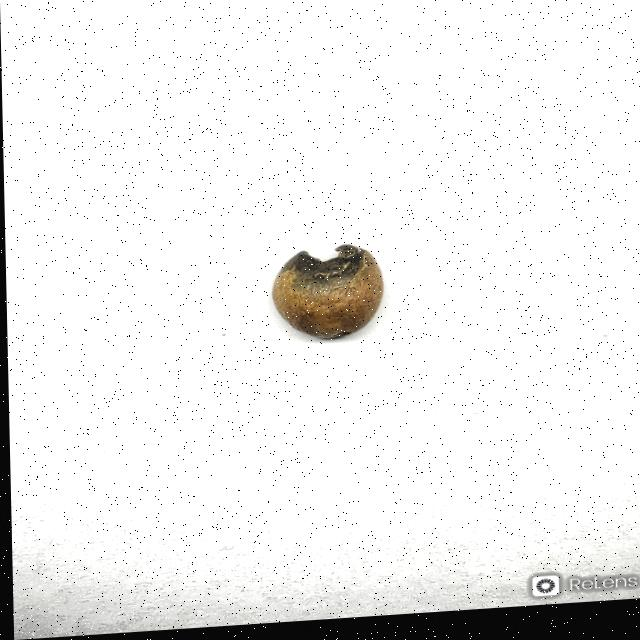Insect damage: (268, 246, 384, 346)
